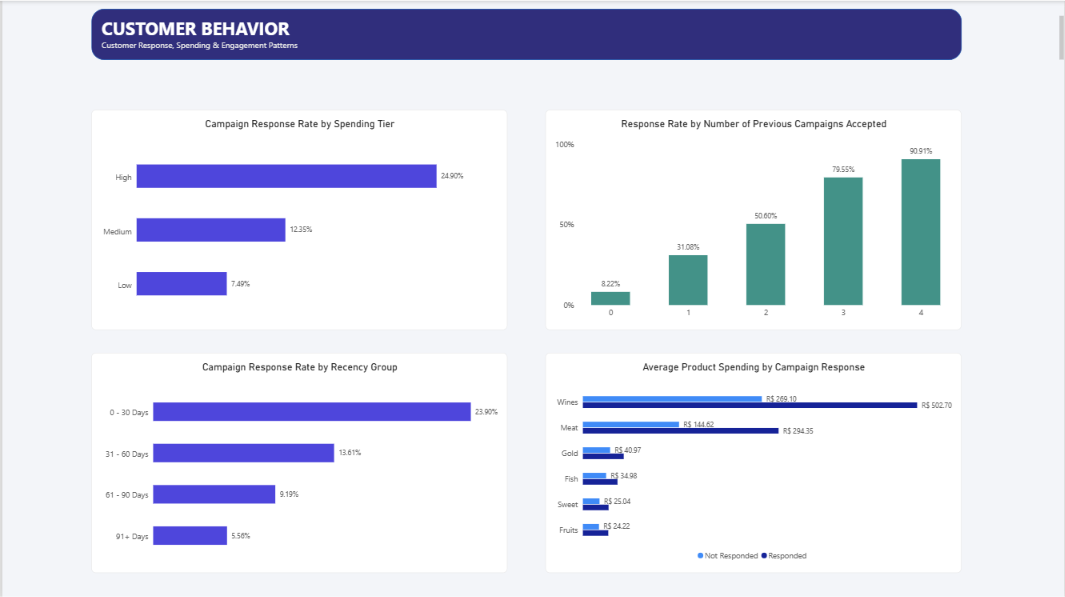

The dashboard page shown, as its layout file describes it:
{"tool":"powerbi","page":{"name":"Customer Behavior","canvas":[1920,1080],"ordinal":1},"visuals":[{"type":"shape","box":[161.2,13.8,1575,92.5],"z":0},{"type":"textbox","box":[178.8,26.2,1741.2,80],"z":1000},{"type":"clusteredColumnChart","title":"Response Rate by Number of Previous Campaigns Accepted","fields":{"Category":["marketing_campaign.Previous Campaigns Accepted"],"Y":["marketing_campaign.Campaign Response Rate"]},"box":[982.6,197.3,752.8,398.1],"z":2000},{"type":"clusteredBarChart","title":"Campaign Response Rate by Spending Tier","fields":{"Category":["marketing_campaign.Spending Tier"],"Y":["marketing_campaign.Campaign Response Rate"]},"box":[161.1,197.3,753,398],"z":3000},{"type":"clusteredBarChart","title":"Campaign Response Rate by Recency Group","fields":{"Category":["marketing_campaign.Recency Group"],"Y":["marketing_campaign.Campaign Response Rate"]},"box":[161.1,637,752.8,398.1],"z":4000},{"type":"clusteredBarChart","title":"Average Product Spending by Campaign Response","fields":{"Category":["Product Spending.Product Category"],"Series":["Product Spending.Response Status"],"Y":["Avg(Product Spending.Amount)"]},"box":[982.6,637,752.8,398.1],"z":5000}]}

Visuals, with their boxes in screenshot pixels (x1, y1, x2, y2), scaled from the page's 1920x1080 canvas onto the 1065x597 screenshot:
shape: {"x1": 89, "y1": 8, "x2": 963, "y2": 59}
textbox: {"x1": 99, "y1": 14, "x2": 1064, "y2": 59}
"Response Rate by Number of Previous Campaigns Accepted" clusteredColumnChart: {"x1": 545, "y1": 109, "x2": 963, "y2": 329}
"Campaign Response Rate by Spending Tier" clusteredBarChart: {"x1": 89, "y1": 109, "x2": 507, "y2": 329}
"Campaign Response Rate by Recency Group" clusteredBarChart: {"x1": 89, "y1": 352, "x2": 507, "y2": 572}
"Average Product Spending by Campaign Response" clusteredBarChart: {"x1": 545, "y1": 352, "x2": 963, "y2": 572}
